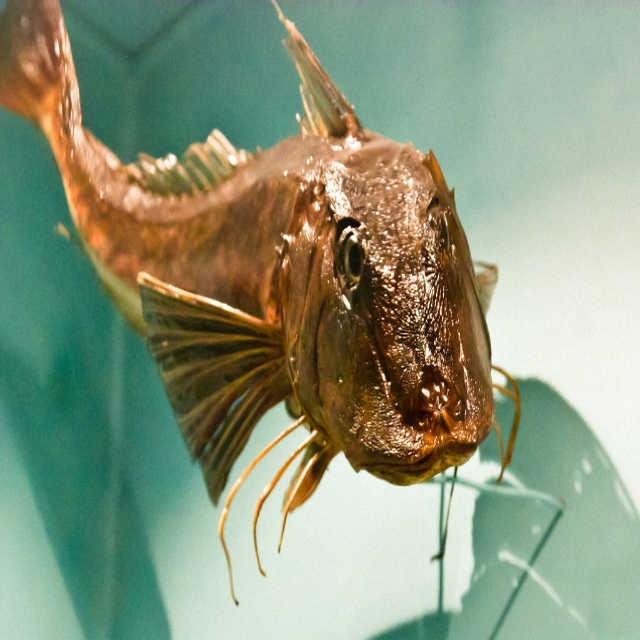Fish: (32, 0, 529, 571)
